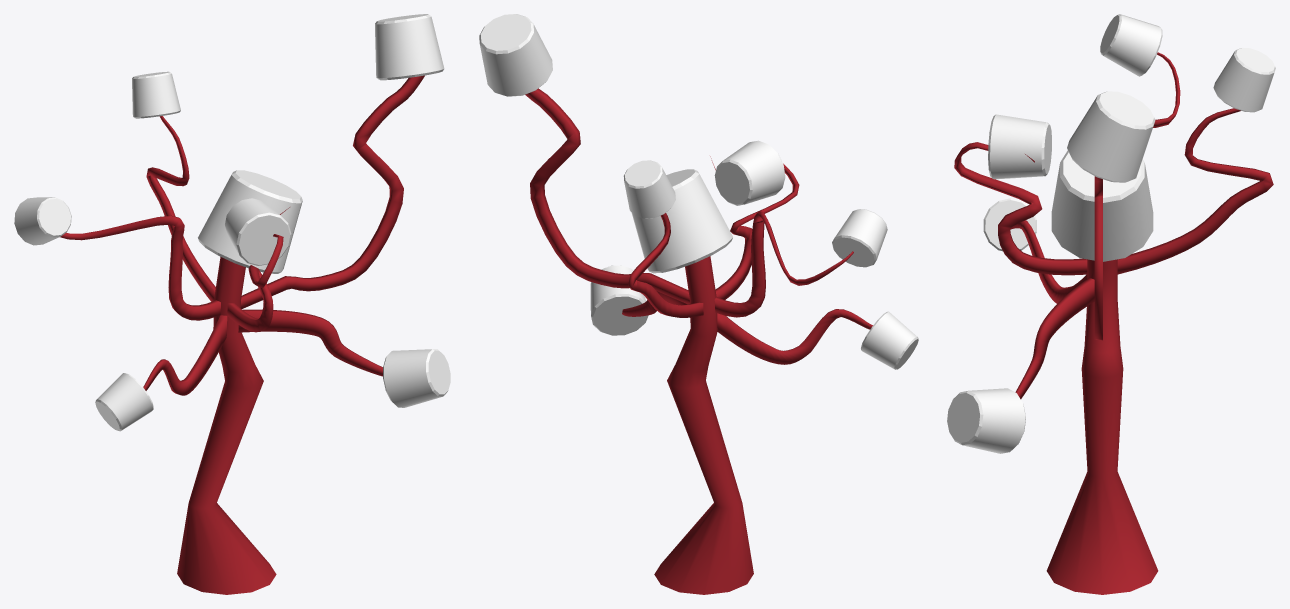
File: marshtree.FBX
3 views of the same model, side by side, from view 1: azimuth 30°, elevation 25°; view 2: azimuth 150°, elevation 25°; view 3: azimuth 270°, elevation 25° (orthographic). The views are drawn at different scales.
Parts seen in each view (by area): view 1: Line001, Cylinder001, Cylinder003, Cylinder007, Cylinder002, Cylinder005, Cylinder006, Cylinder004; view 2: Line001, Cylinder001, Cylinder003, Cylinder002, Cylinder007, Cylinder004, Cylinder005, Cylinder006; view 3: Line001, Cylinder001, Cylinder003, Cylinder007, Cylinder002, Cylinder004, Cylinder005, Cylinder006.
Boxes of the visible parts, left/top/right/bottom form: Line001: left=60, top=75, right=424, bottom=594; Cylinder001: left=198, top=170, right=302, bottom=273; Cylinder003: left=375, top=14, right=444, bottom=80; Cylinder007: left=383, top=349, right=450, bottom=407; Cylinder002: left=225, top=198, right=291, bottom=265; Cylinder005: left=14, top=197, right=71, bottom=245; Cylinder006: left=95, top=373, right=153, bottom=431; Cylinder004: left=132, top=71, right=180, bottom=118; Line001: left=525, top=88, right=872, bottom=594; Cylinder001: left=631, top=169, right=732, bottom=273; Cylinder003: left=479, top=14, right=552, bottom=96; Cylinder002: left=714, top=140, right=785, bottom=205; Cylinder007: left=590, top=265, right=648, bottom=335; Cylinder004: left=623, top=160, right=675, bottom=218; Cylinder005: left=832, top=209, right=887, bottom=267; Cylinder006: left=861, top=311, right=918, bottom=369; Line001: left=954, top=52, right=1273, bottom=594; Cylinder001: left=1051, top=150, right=1153, bottom=261; Cylinder003: left=1067, top=91, right=1155, bottom=182; Cylinder007: left=947, top=388, right=1025, bottom=453; Cylinder002: left=988, top=114, right=1051, bottom=179; Cylinder004: left=1213, top=47, right=1275, bottom=112; Cylinder005: left=1100, top=14, right=1162, bottom=76; Cylinder006: left=983, top=198, right=1036, bottom=251.
Size of the model in its own units: 123 by 149 by 77.21.
